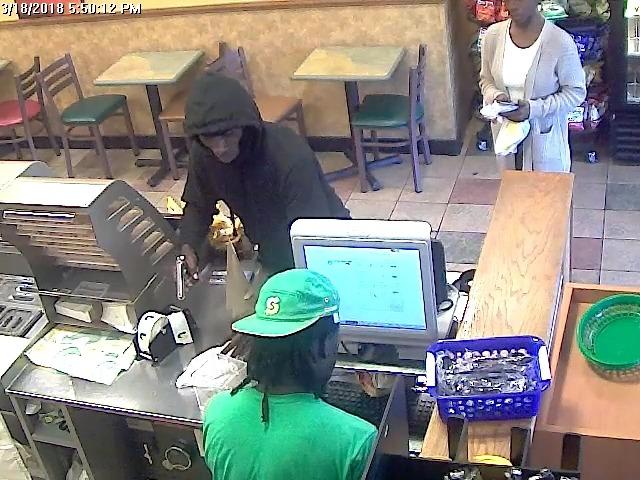weapon: (165, 252, 207, 301)
